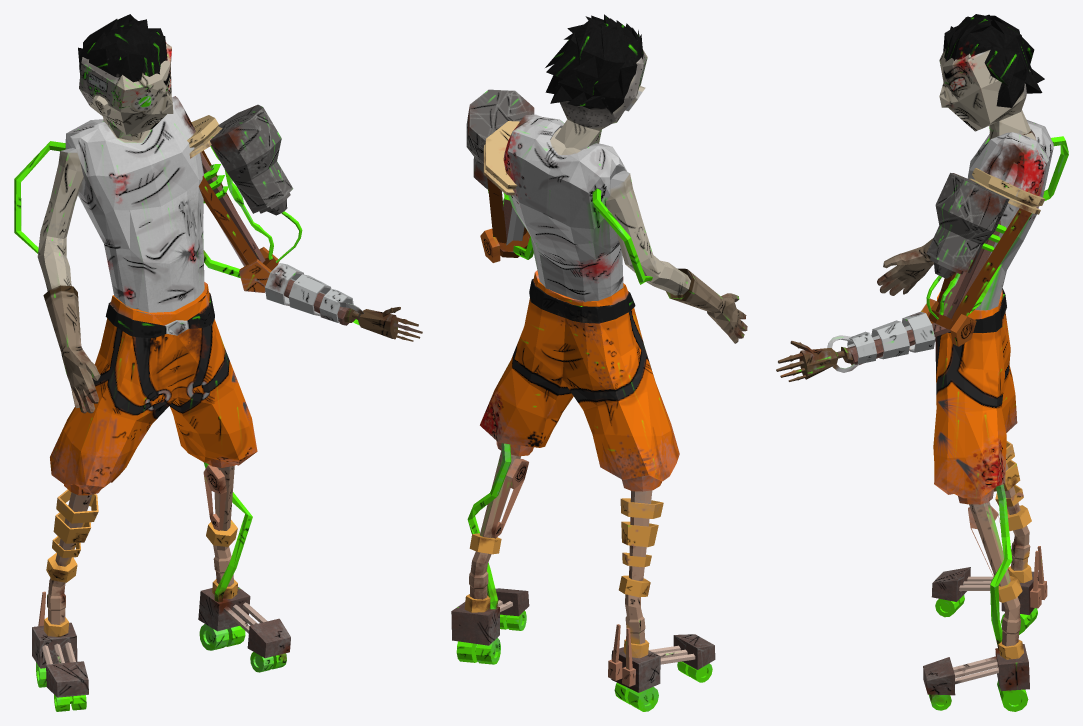
Rendered from CyborgFINALAnimation_000013.obj.
3 views of the same model, side by side, from view 1: azimuth 30°, elevation 25°; view 2: azimuth 150°, elevation 25°; view 3: azimuth 270°, elevation 25° (orthographic). The views are drawn at different scales.
Parts seen in each view (by area): view 1: CyborgMesh_Cube.002; view 2: CyborgMesh_Cube.002; view 3: CyborgMesh_Cube.002.
Part boxes in pixels (box(x1,y1,x2,y2)): CyborgMesh_Cube.002: box(14, 14, 422, 711); CyborgMesh_Cube.002: box(451, 14, 747, 711); CyborgMesh_Cube.002: box(776, 14, 1068, 711).
Bounding box in the file's own units: 4.24 × 9.56 × 3.98.
